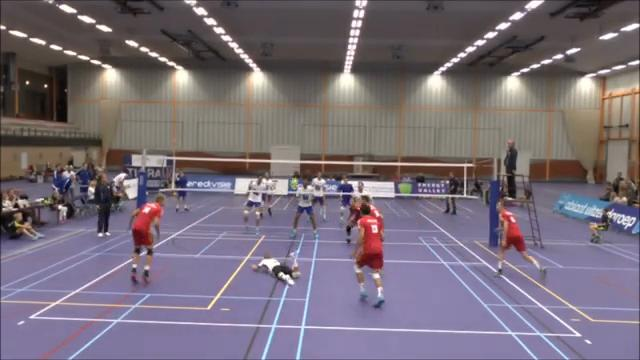difesa: (248, 248, 306, 287)
